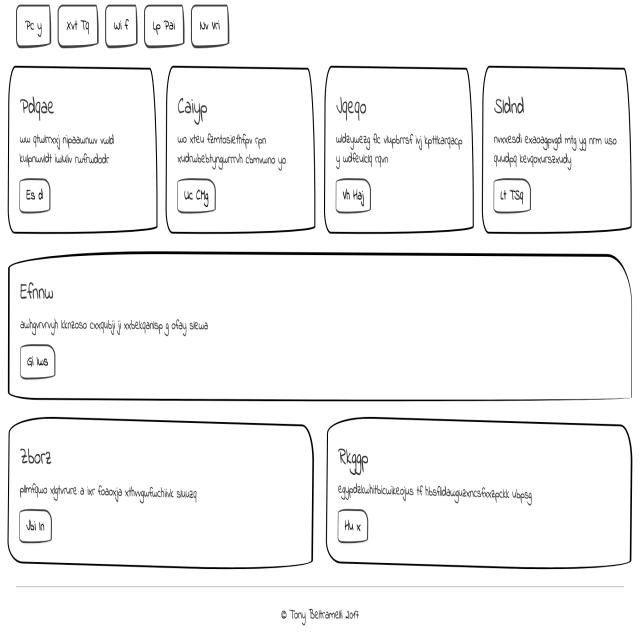Button: (16, 174, 56, 224), (175, 175, 219, 219), (19, 341, 64, 382), (333, 180, 375, 218), (492, 175, 532, 213), (15, 508, 56, 545), (338, 508, 372, 545)
Card: (6, 250, 635, 412), (6, 421, 317, 574), (324, 421, 636, 569), (482, 56, 634, 248), (322, 60, 475, 240), (9, 62, 160, 236), (166, 65, 316, 236)
Footer: (2, 583, 640, 640)
Heading 6: (333, 439, 374, 476), (174, 92, 215, 124), (20, 92, 58, 125), (491, 91, 530, 123), (19, 278, 57, 308), (18, 441, 56, 468), (334, 94, 366, 122)
Navigation Bar: (11, 0, 250, 54)
Paragraph: (334, 477, 546, 510), (18, 309, 226, 341), (17, 475, 206, 507), (335, 131, 469, 173), (492, 128, 620, 169), (173, 129, 286, 170), (20, 128, 119, 172)
